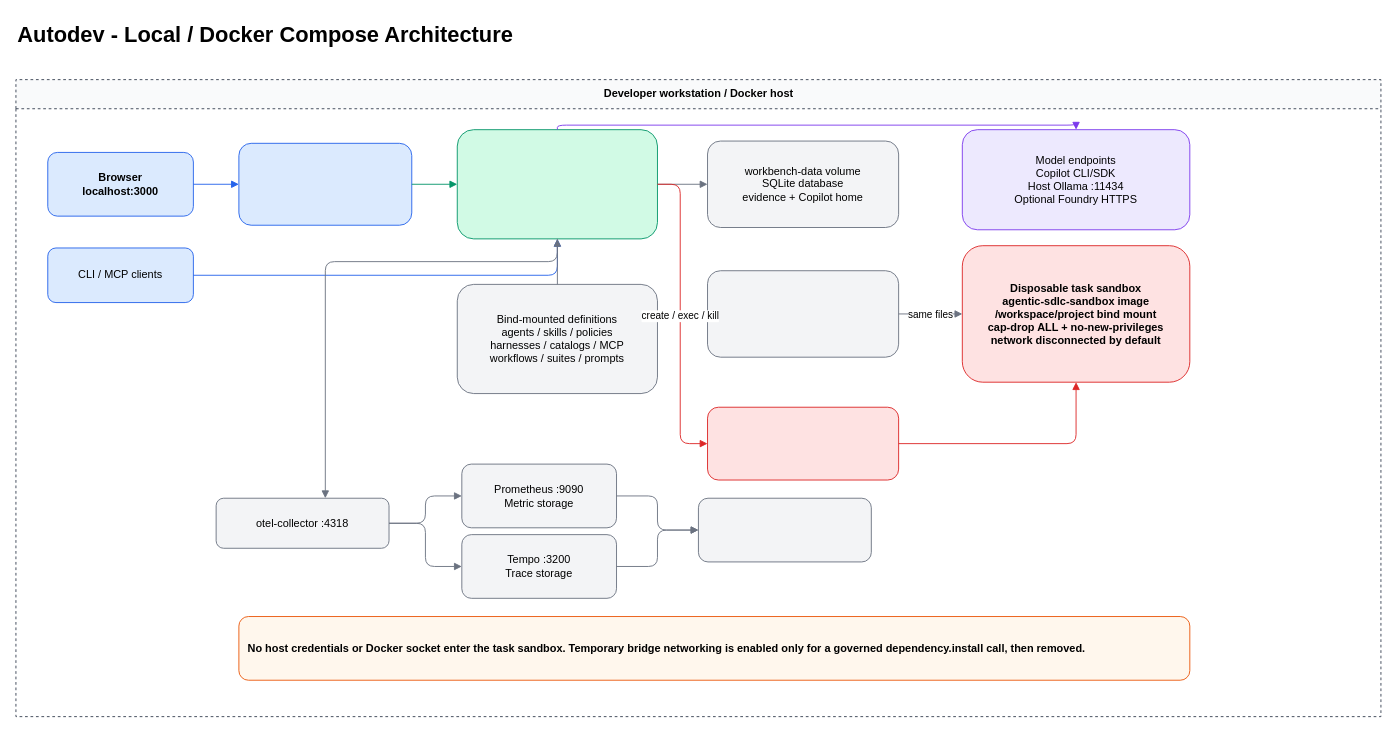
The diagram is 1397 pixels wide and 733 high, and some of its shapes have lost their labels. The shapes that lost their labels are listed below. From the top down, each one's box as (x1, y1, x2, y2) in pixels, then its label:
(238, 142, 412, 225): web service Next.js :3000 same-origin API rewrite
(456, 129, 657, 239): api service FastAPI :8000 Agent runtime + workflow Governance + evaluation
(707, 270, 899, 357): Host worktrees .workspaces/TASK-NNN/repo Persistent isolated clones
(707, 406, 899, 480): Docker socket Privileged control-plane boundary
(698, 497, 871, 562): Grafana :3001 Dashboards + trace links
